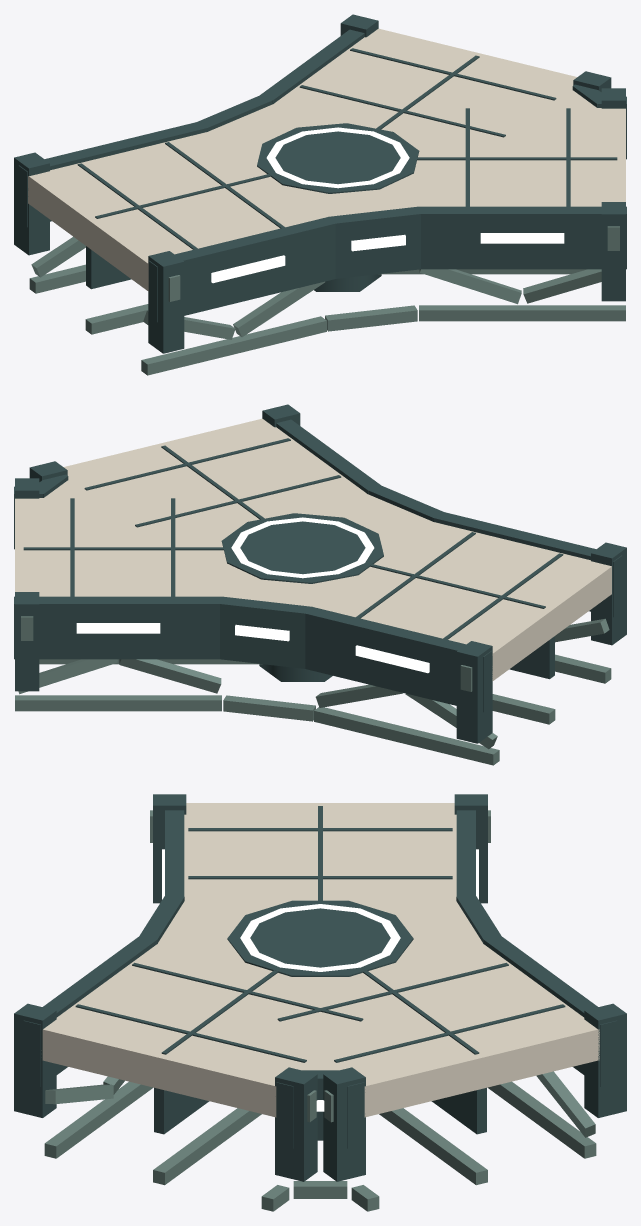
Rendered from Junction_Fork_lab.glb.
The picture shows the model from 3 angles, top to bottom: view 1: azimuth 30°, elevation 25°; view 2: azimuth 150°, elevation 25°; view 3: azimuth 270°, elevation 25°; orthographic projection. The views are drawn at different scales.
Visible parts, largest first — view 1: Junction_Fork; view 2: Junction_Fork; view 3: Junction_Fork.
Boxes of the visible parts, <box> form: Junction_Fork: <box>14,14,626,375</box>; Junction_Fork: <box>14,404,626,765</box>; Junction_Fork: <box>14,794,626,1211</box>.
Size of the model in its own units: 7.02 by 1.58 by 6.26.
